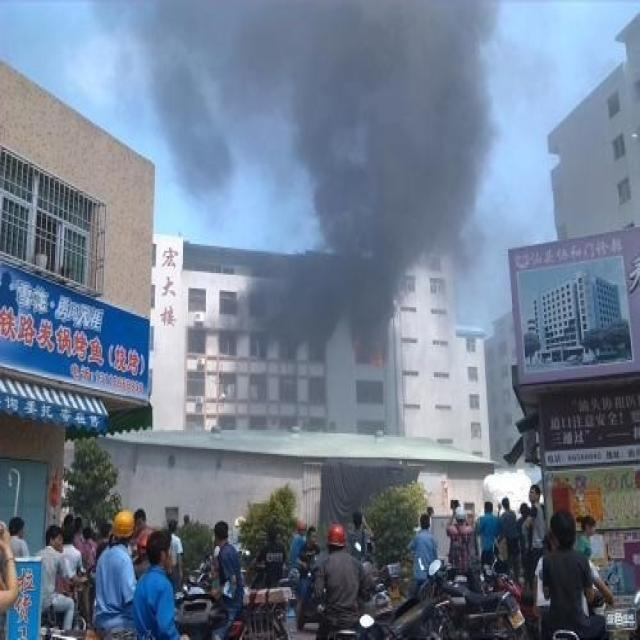Smoke: (94, 1, 504, 358)
